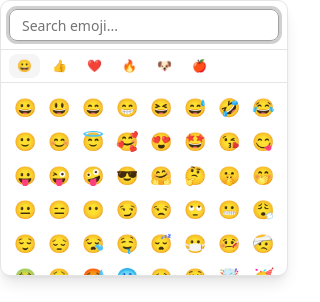
Scenario: EmojiPicker › shows 'No emoji found' when search yields no results
The image size is (320, 302).
Type "zzzzzzzzz" into the field with test id "emoji-search". click: point(144, 25)
box: [9,9,279,41]
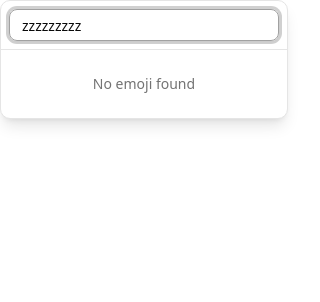
Expected: the text "No emoji found" is shown, [93,74,195,93]
